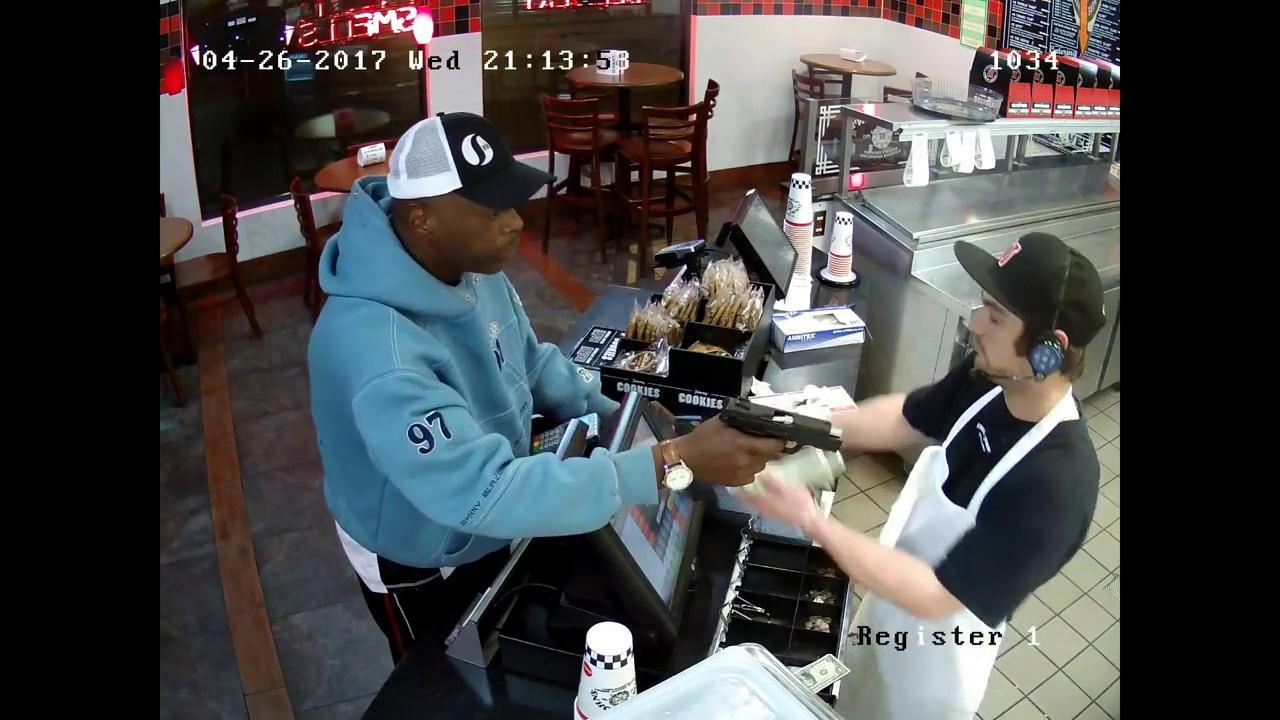Guns: (691, 366, 861, 465)
